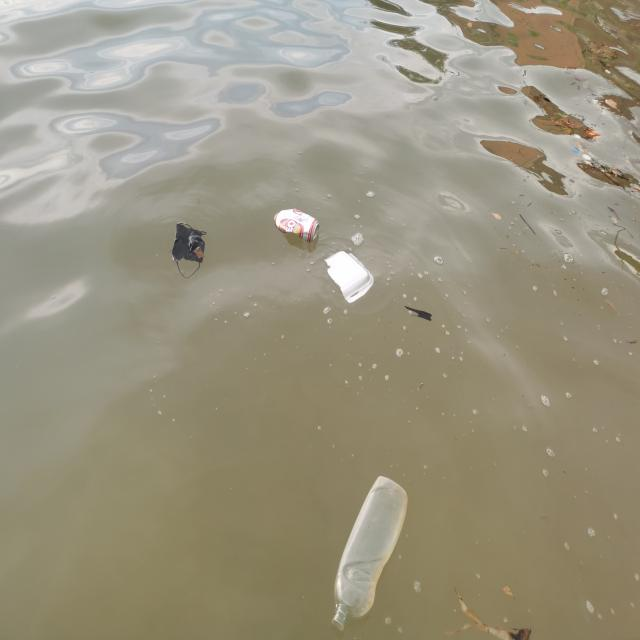can: (272, 204, 322, 246)
foam: (326, 247, 373, 306)
plastic: (328, 474, 410, 636)
unknow: (172, 222, 210, 282)
